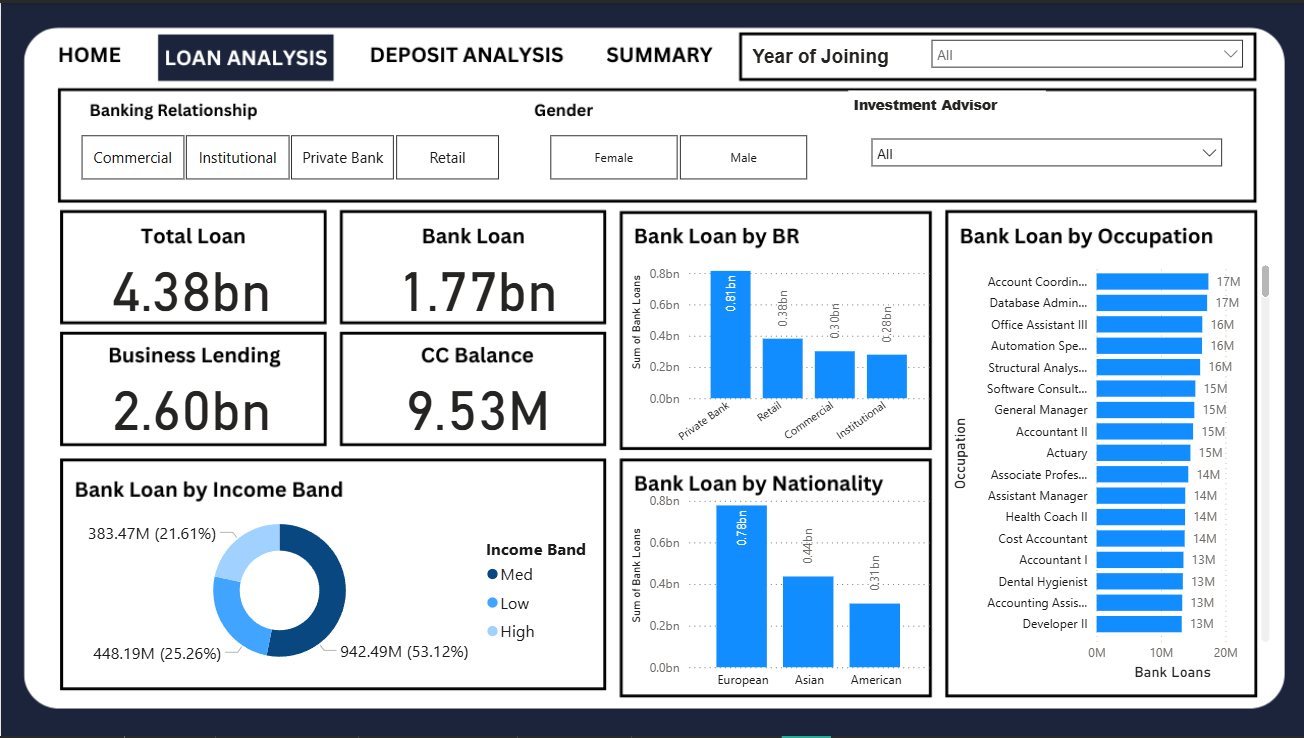

Layout of this report page (visuals, bound fields, positions):
{"tool":"powerbi","page":{"name":"Loan Analysis","canvas":[1280,720],"ordinal":1},"visuals":[{"type":"actionButton","box":[36.4,31.7,99.7,39.6],"z":0},{"type":"actionButton","box":[348.2,31.7,221.6,39.6],"z":1000},{"type":"actionButton","box":[587.1,31.7,123.4,39.6],"z":2000},{"type":"card","fields":{"Values":["banking_case customer.Total Loan"]},"box":[66.3,244.2,241.7,65],"z":3000},{"type":"card","fields":{"Values":["Sum(banking_case customer.Bank Loans)"]},"box":[348.5,244.2,239.3,65],"z":4000},{"type":"card","fields":{"Values":["Sum(banking_case customer.Business Lending)"]},"box":[66.3,360.7,241.7,65],"z":5000},{"type":"card","fields":{"Values":["Sum(banking_case customer.Credit Card Balance)"]},"box":[348.5,360.7,239.3,65],"z":6000},{"type":"donutChart","fields":{"Category":["banking_case customer.Income Band"],"Y":["Sum(banking_case customer.Bank Loans)"]},"box":[66.8,488.8,530.7,176.9],"z":7000},{"type":"clusteredColumnChart","fields":{"Category":["banking_case customer.BRId"],"Y":["Sum(banking_case customer.Bank Loans)"]},"box":[613.5,224.5,303.1,219.6],"z":8000},{"type":"clusteredColumnChart","fields":{"Category":["banking_case customer.Nationality"],"Y":["Sum(banking_case customer.Bank Loans)"]},"box":[613.5,457.7,303.1,224.5],"z":9000},{"type":"clusteredBarChart","fields":{"Y":["Sum(banking_case customer.Bank Loans)"],"Category":["banking_case customer.Occupation"]},"box":[928.8,244.2,321.5,425.8],"z":10000},{"type":"slicer","fields":{"Values":["banking_case customer.BRId"]},"box":[52.8,122.7,460.1,57.7],"z":11000},{"type":"slicer","fields":{"Values":["banking_case customer.GenderId"]},"box":[512.4,123.2,302.7,57.7],"z":12000},{"type":"slicer","fields":{"Values":["banking_case customer.IAId"]},"box":[843.9,123.2,364.3,57.7],"z":13000},{"type":"textbox","box":[831.9,85.9,193.9,36.8],"z":14000},{"type":"textbox","box":[732.5,36.8,147.2,34.4],"z":15000},{"type":"slicer","fields":{"Values":["banking_case customer.Year of Joining"]},"box":[903.1,25.8,326.4,52.8],"z":16000}]}

Visuals, with their boxes in screenshot pixels (x1, y1, x2, y2), scaled from the page's 1280x720 canvas onto the 1304x738 screenshot:
actionButton: 37:32:139:73
actionButton: 355:32:580:73
actionButton: 598:32:724:73
card - banking_case customer.Total Loan: 68:250:314:317
card - Sum(banking_case customer.Bank Loans): 355:250:599:317
card - Sum(banking_case customer.Business Lending): 68:370:314:436
card - Sum(banking_case customer.Credit Card Balance): 355:370:599:436
donutChart - banking_case customer.Income Band x Sum(banking_case customer.Bank Loans): 68:501:609:682
clusteredColumnChart - banking_case customer.BRId x Sum(banking_case customer.Bank Loans): 625:230:934:455
clusteredColumnChart - banking_case customer.Nationality x Sum(banking_case customer.Bank Loans): 625:469:934:699
clusteredBarChart - Sum(banking_case customer.Bank Loans) x banking_case customer.Occupation: 946:250:1274:687
slicer - banking_case customer.BRId: 54:126:523:185
slicer - banking_case customer.GenderId: 522:126:830:185
slicer - banking_case customer.IAId: 860:126:1231:185
textbox: 847:88:1045:126
textbox: 746:38:896:73
slicer - banking_case customer.Year of Joining: 920:26:1253:81
